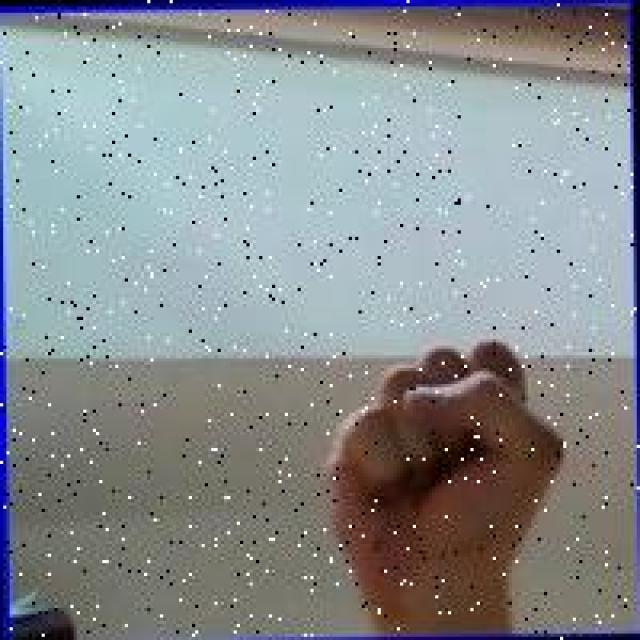S: (320, 328, 573, 590)
